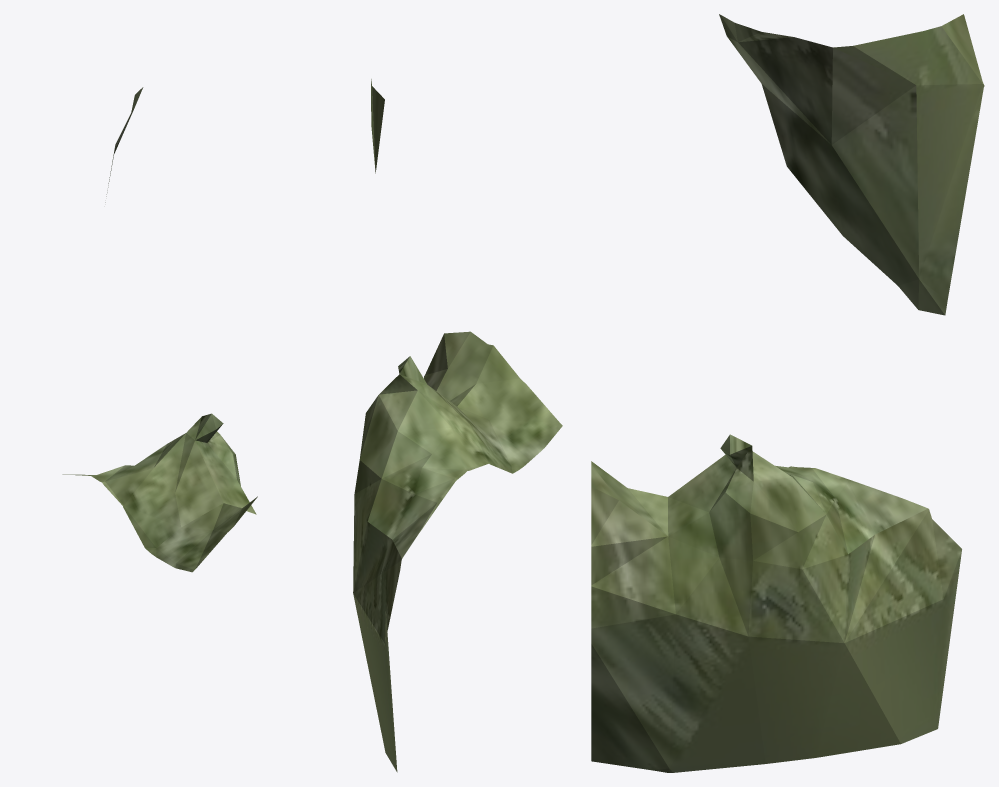
3 renders of one model, left to right at view 1: azimuth 30°, elevation 25°; view 2: azimuth 150°, elevation 25°; view 3: azimuth 270°, elevation 25°, orthographic. The views are drawn at different scales.
Size of the model in its own units: 0.6284 by 2.95 by 1.47.
Materials: 1 (1 with a texture image).
